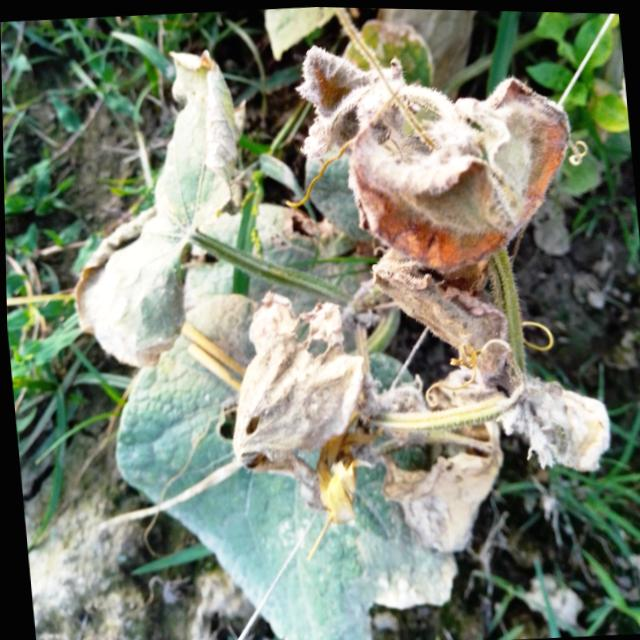Bacterial-Wilt: (346, 77, 571, 273), (231, 286, 371, 510)
